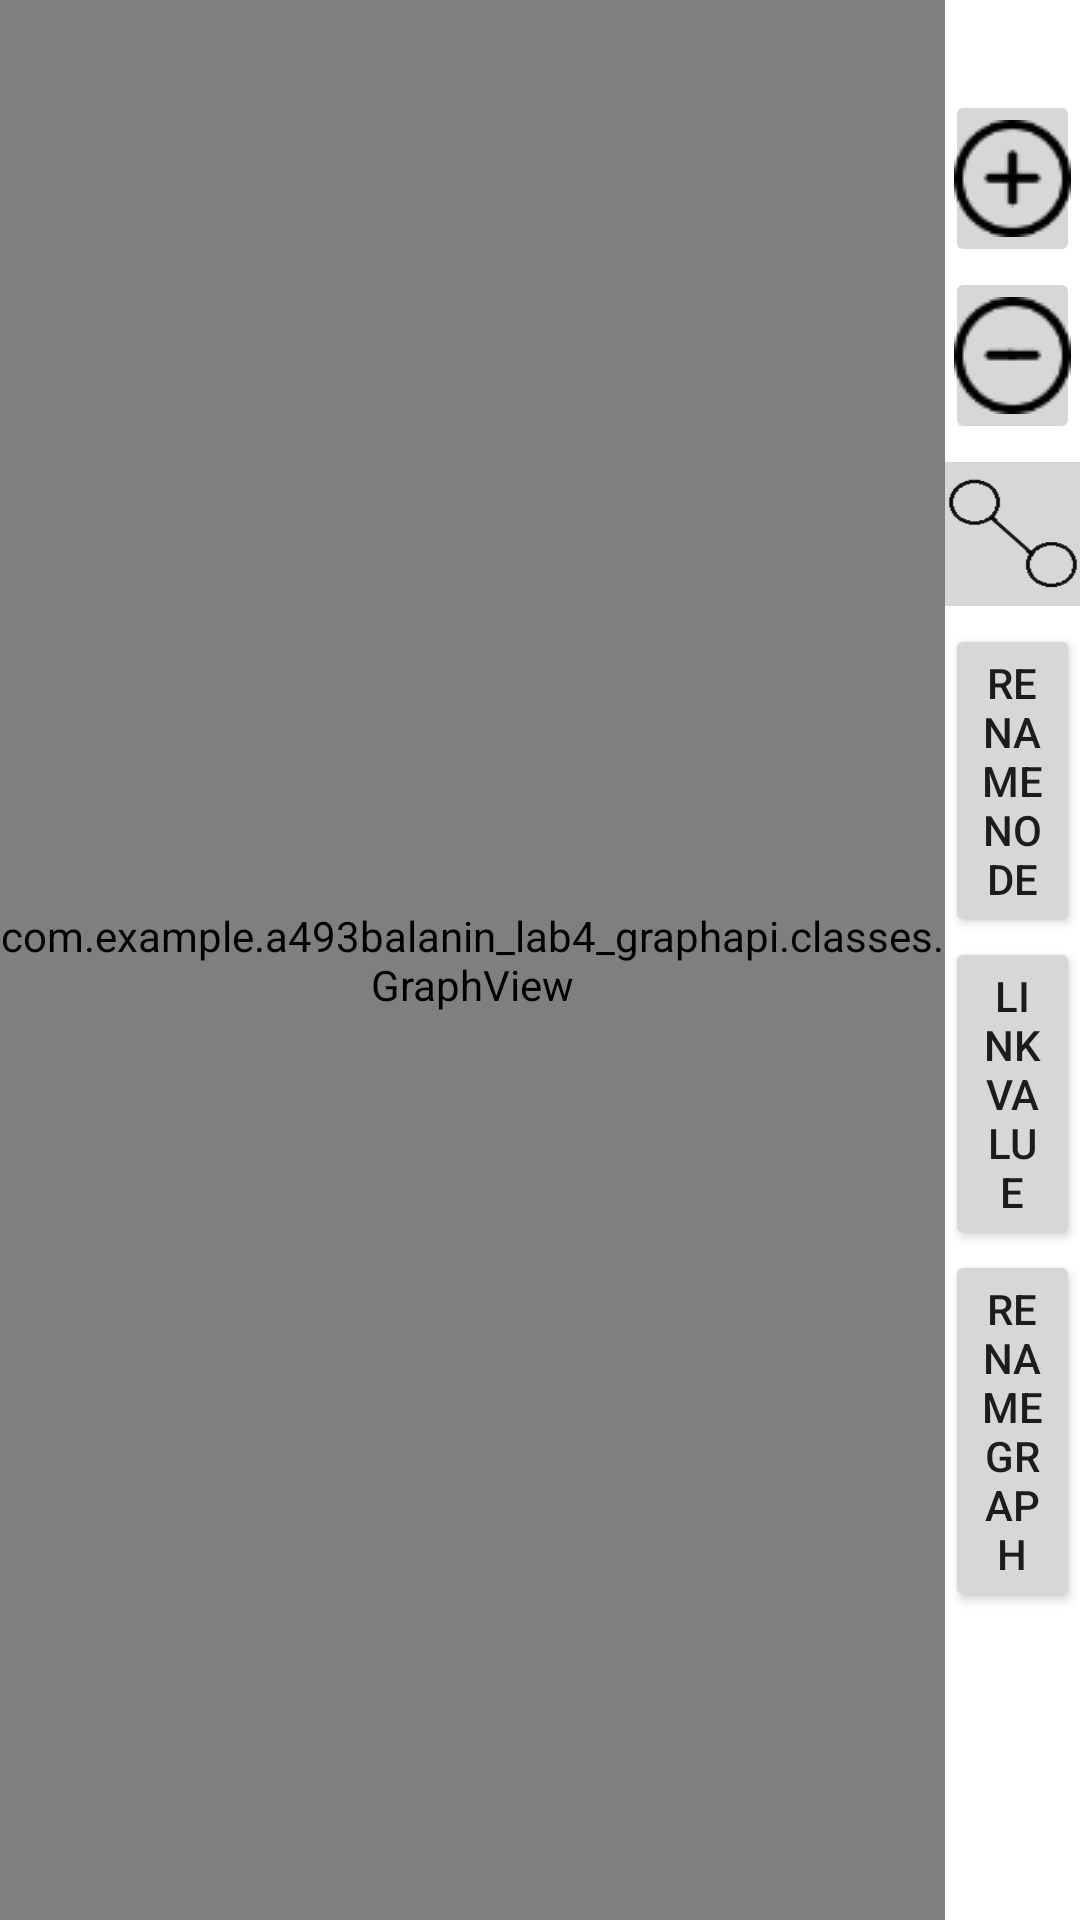

Icon bounding boxes for this 1080*1920 phone screenshot, format [x1, y1, x2, y2]:
minus: [954, 285, 1071, 426]
plus: [954, 108, 1071, 249]
